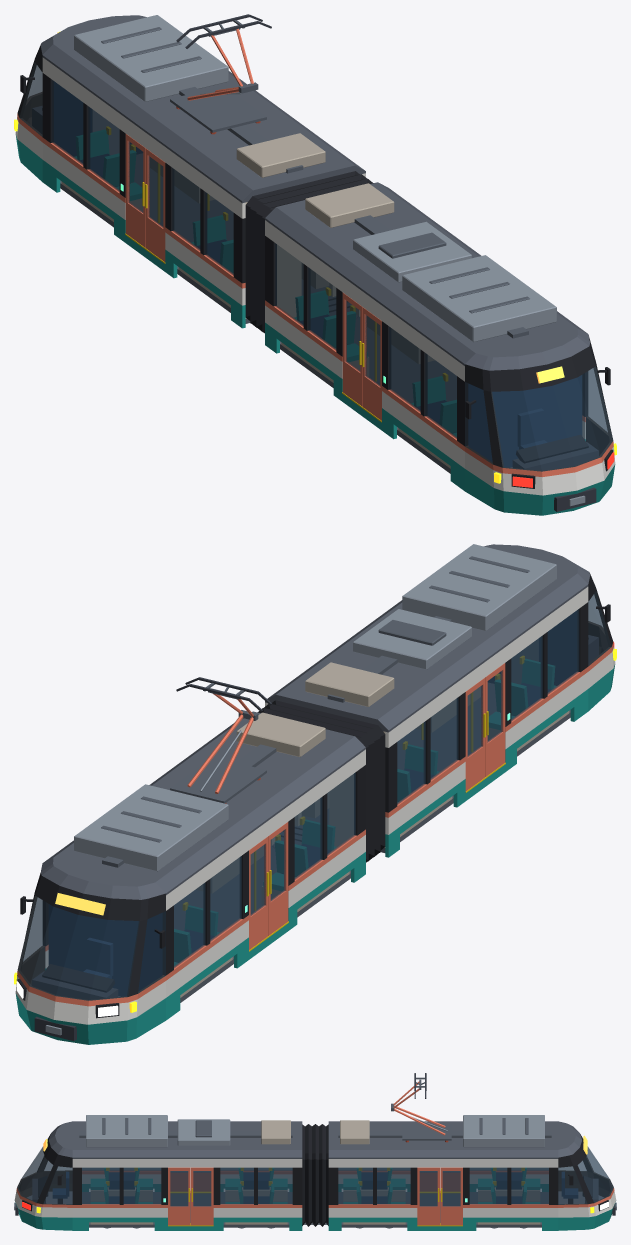
Rendered from tram.glb.
3 views of the same model, one above another, from view 1: azimuth 30°, elevation 25°; view 2: azimuth 150°, elevation 25°; view 3: azimuth 270°, elevation 25° (orthographic). The views are drawn at different scales.
Visible parts, largest first — view 1: Body, Glass_L, Glass_Rear, Pantograph, Door_L1_B, Door_L1_A, Door_L2_A, Door_L2_B, Glass_Front; view 2: Body, Glass_L, Glass_Front, Pantograph, Door_L2_A, Door_L1_B, Door_L2_B, Door_L1_A, Glass_Rear; view 3: Body, Glass_R, Glass_Rear, Glass_Front, Pantograph, Door_R1_A, Door_R1_B, Door_R2_A, Door_R2_B, Glass_L, Door_L1_A, Door_L1_B (+2 smaller).
Part boxes in pixels (<box>): Body: <box>14,15,616,515</box>; Glass_L: <box>51,80,456,438</box>; Glass_Rear: <box>465,366,613,471</box>; Pantograph: <box>170,14,271,134</box>; Door_L1_B: <box>145,148,165,261</box>; Door_L1_A: <box>125,134,145,247</box>; Door_L2_A: <box>342,292,362,406</box>; Door_L2_B: <box>362,307,381,420</box>; Glass_Front: <box>19,62,42,136</box>; Body: <box>14,544,616,1044</box>; Glass_L: <box>174,609,579,968</box>; Glass_Front: <box>18,896,165,1000</box>; Pantograph: <box>170,677,271,803</box>; Door_L2_A: <box>465,678,485,791</box>; Door_L1_B: <box>268,822,288,935</box>; Door_L2_B: <box>485,663,505,776</box>; Door_L1_A: <box>249,836,268,949</box>; Glass_Rear: <box>588,592,611,665</box>; Body: <box>14,1115,616,1230</box>; Glass_R: <box>82,1167,548,1204</box>; Glass_Rear: <box>17,1146,72,1204</box>; Glass_Front: <box>558,1146,613,1204</box>; Pantograph: <box>391,1073,451,1142</box>; Door_R1_A: <box>440,1167,462,1225</box>; Door_R1_B: <box>417,1167,439,1225</box>; Door_R2_A: <box>191,1167,213,1225</box>; Door_R2_B: <box>168,1167,190,1225</box>; Glass_L: <box>82,1168,548,1170</box>; Door_L1_A: <box>443,1171,460,1191</box>; Door_L1_B: <box>420,1171,437,1191</box>.
Bounding box in the file's own units: 2.87 × 4.59 × 18.38.
